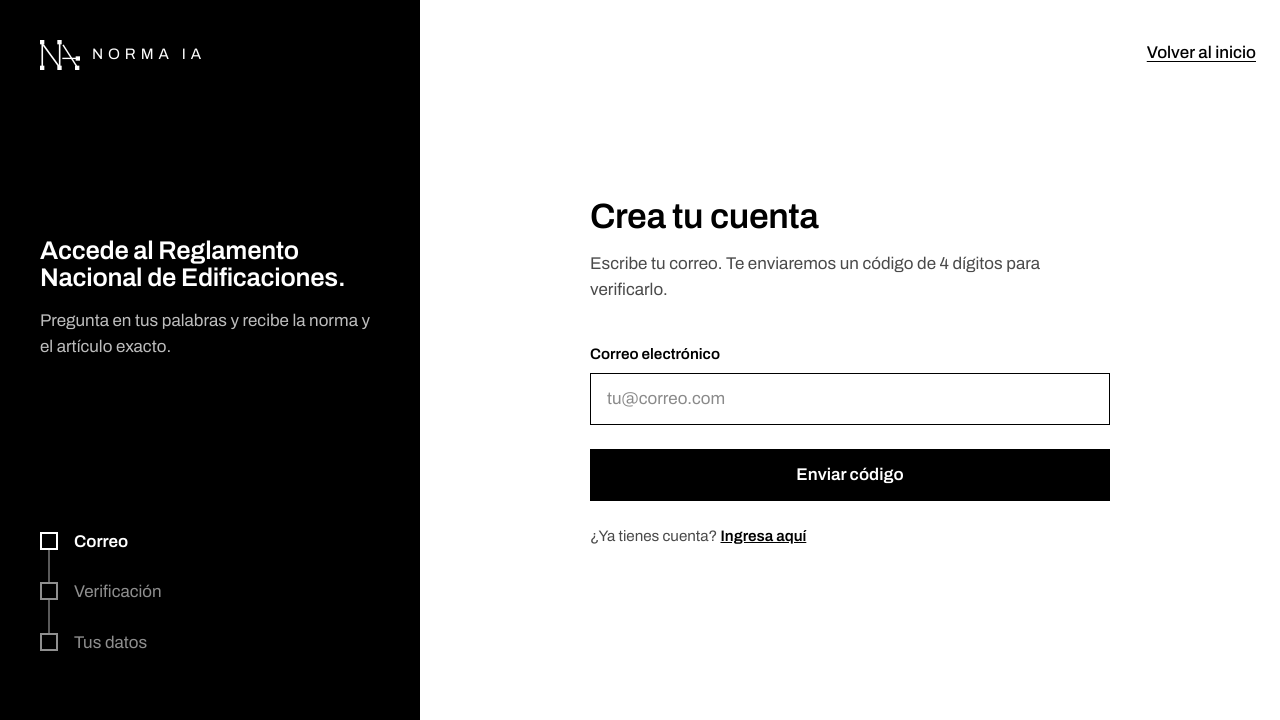
Test: registro › cambiar correo vuelve al paso 1 conservando el correo
Type "ana@correo.com" into the field labelled "Correo electrónico". click: (850, 399)
box: [590,373,1110,425]
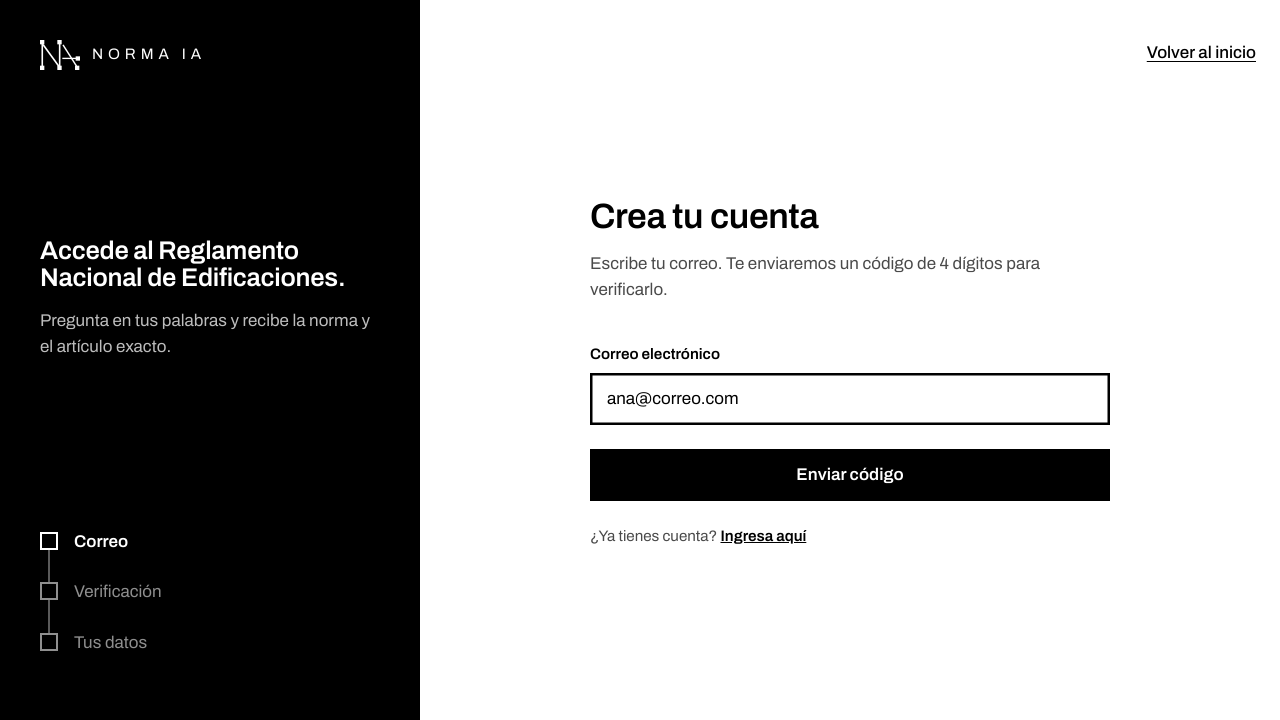
Click the button "Enviar código". click: (850, 475)
box: [590,449,1110,501]
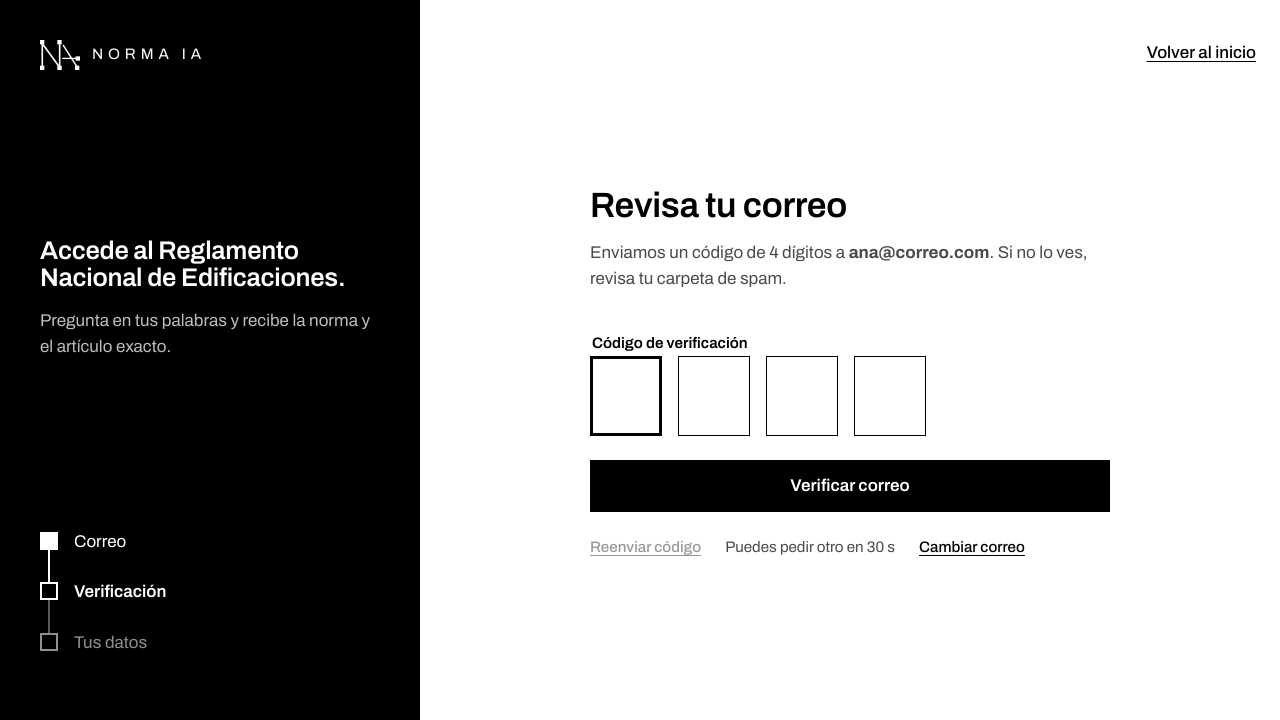
Result: the heading "Revisa tu correo" is shown at [590,186,847,224]
Click the button "Cambiar correo". click: (972, 548)
box: [919,536,1025,560]
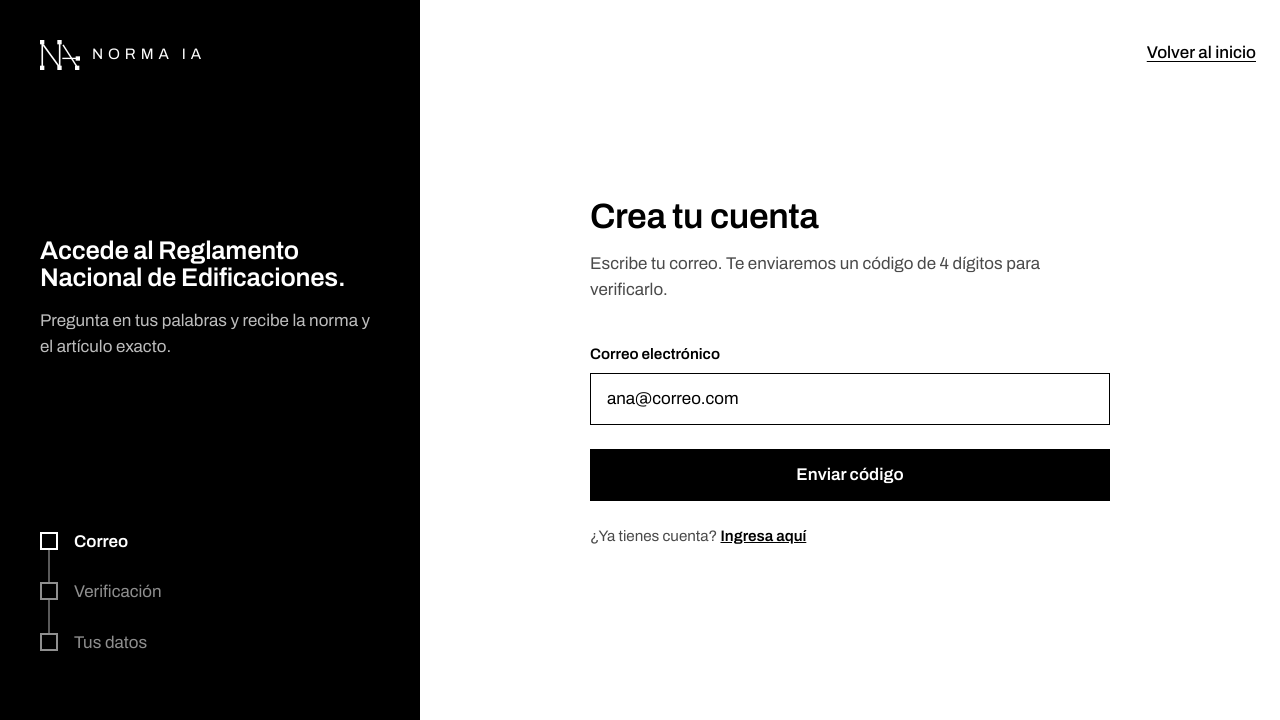
Result: the heading "Crea tu cuenta" is shown at [590,197,818,235]
Result: the field labelled "Correo electrónico" holds "ana@correo.com" at [590,373,1110,425]
